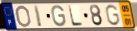8: (89, 4, 104, 28)
G: (51, 5, 67, 28), (105, 4, 121, 27)
I: (33, 5, 43, 29)
L: (67, 5, 84, 27)
O: (15, 5, 33, 28)
